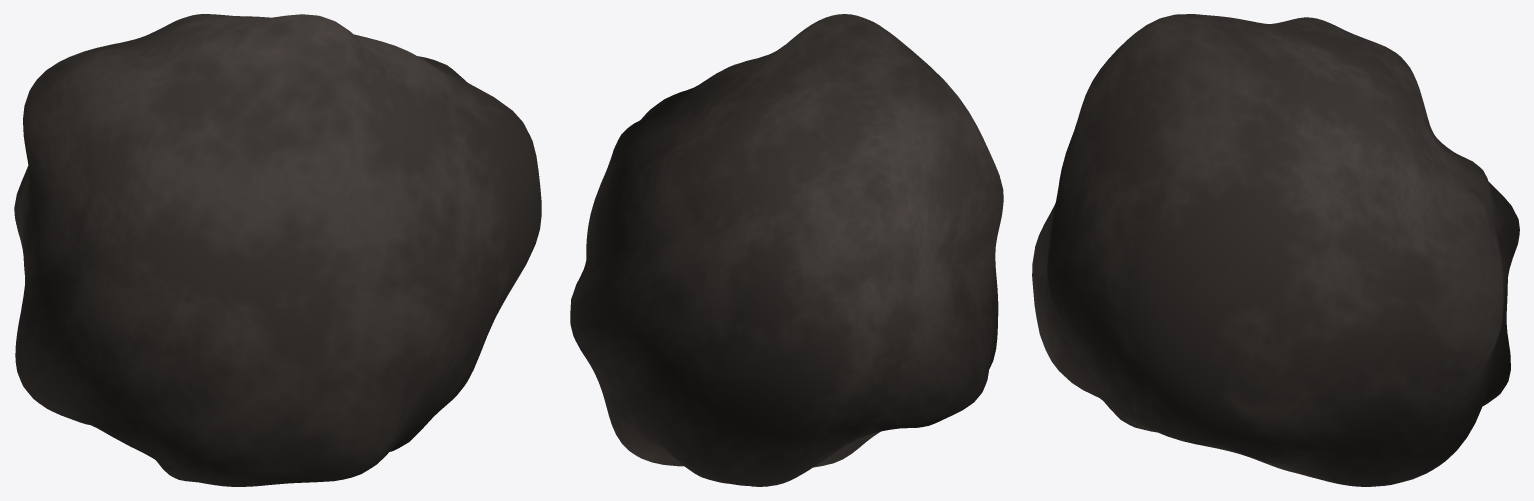
File: asteroid-gourd.glb
3 renders of one model, left to right at view 1: azimuth 30°, elevation 25°; view 2: azimuth 150°, elevation 25°; view 3: azimuth 270°, elevation 25°, orthographic. The views are drawn at different scales.
Parts seen in each view (by area): view 1: asteroid_2004; view 2: asteroid_2004; view 3: asteroid_2004.
Boxes of the visible parts, x1,y1,x2,y2 form: asteroid_2004: [14, 14, 541, 486]; asteroid_2004: [570, 14, 1003, 486]; asteroid_2004: [1032, 14, 1519, 486].
Size of the model in its own units: 80.57 by 78.71 by 80.2.
Materials: 1 (1 with a texture image).
